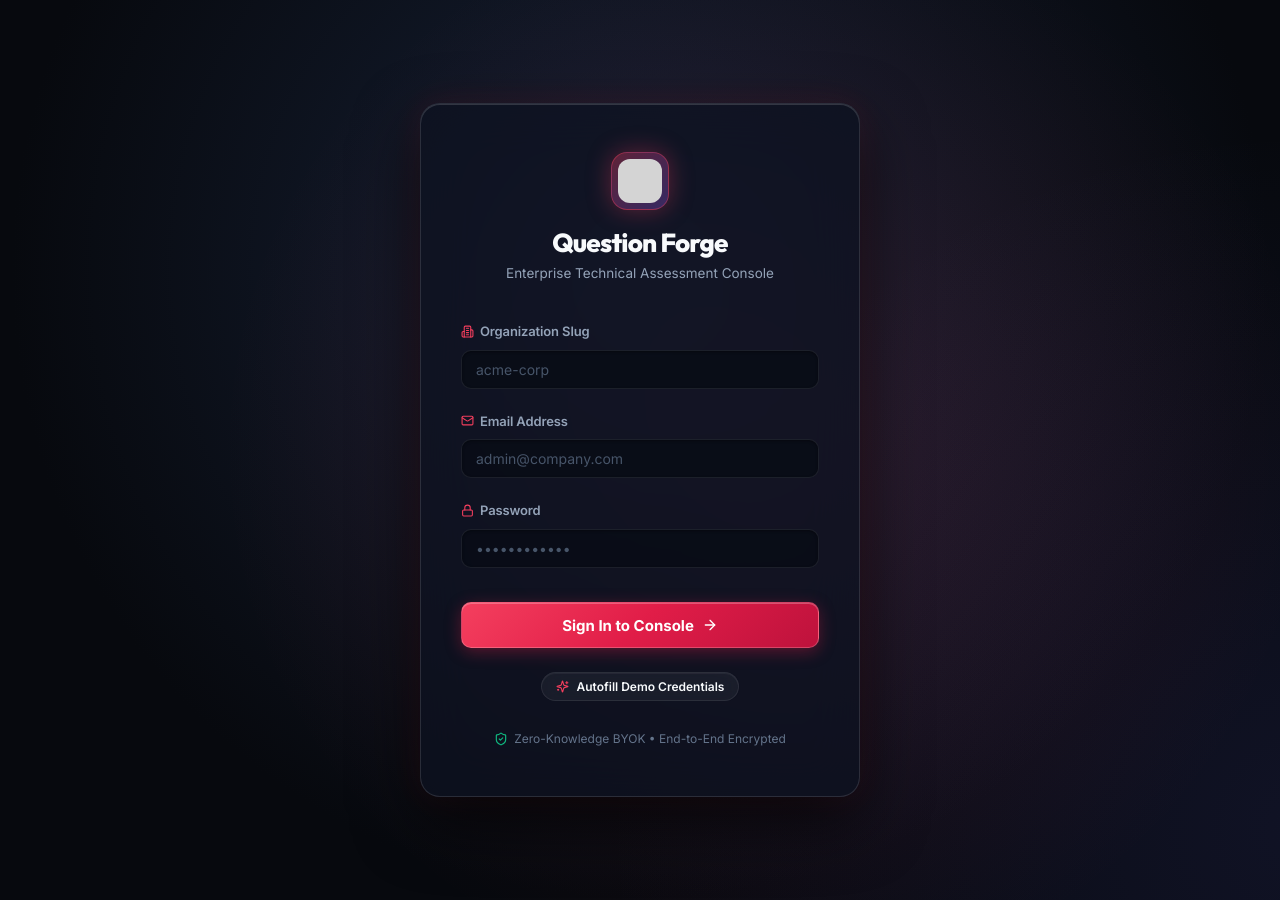
Test: LoginPage › shows an error message when login fails
This screenshot has width=1280, height=900.
Type "my-org" into the field with placeholder "acme-corp".
click(640, 369); type("my-org")  # box [461,350,819,389]
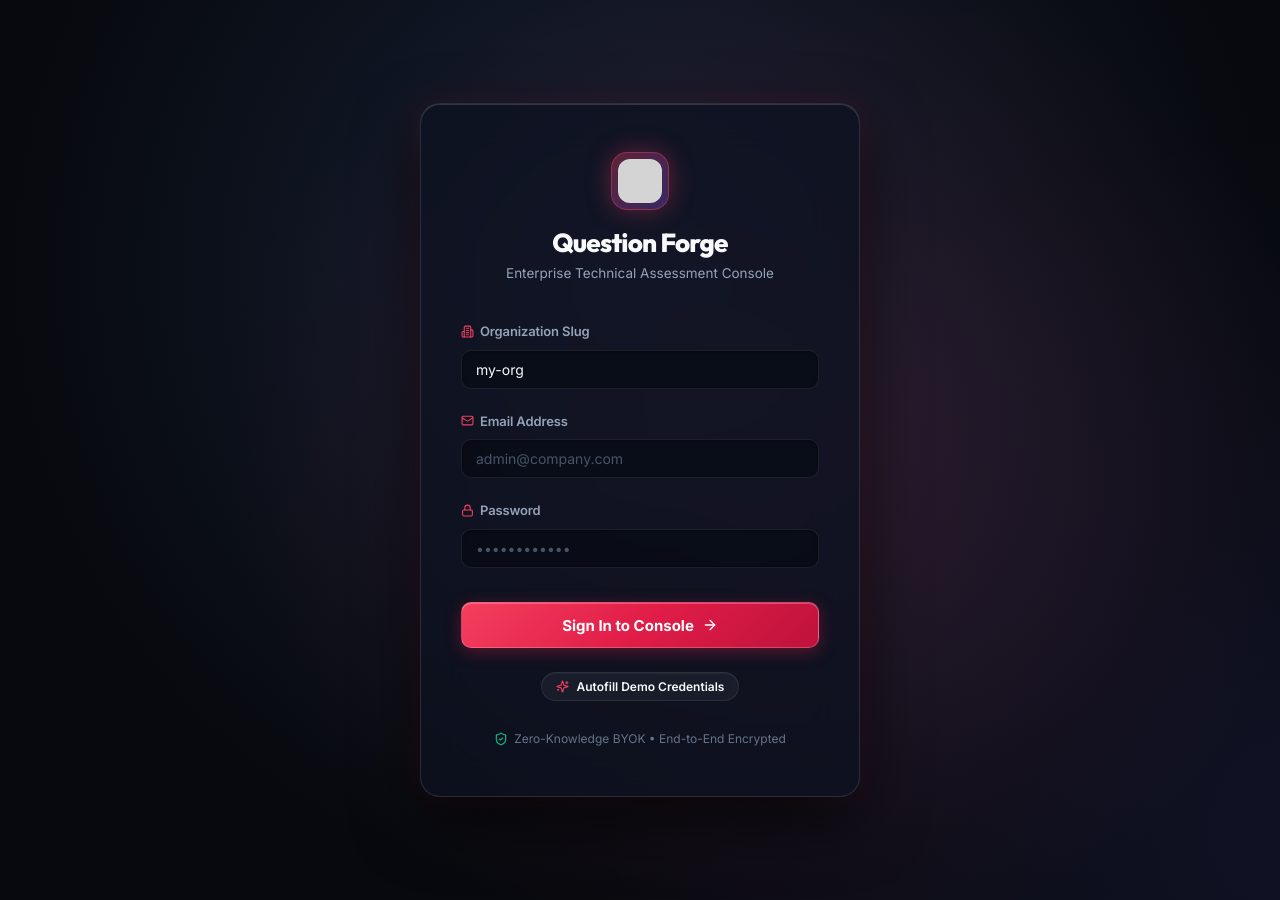
Type "a@b.com" into the field with placeholder "admin@company.com".
click(640, 459); type("a@b.com")  # box [461,439,819,478]
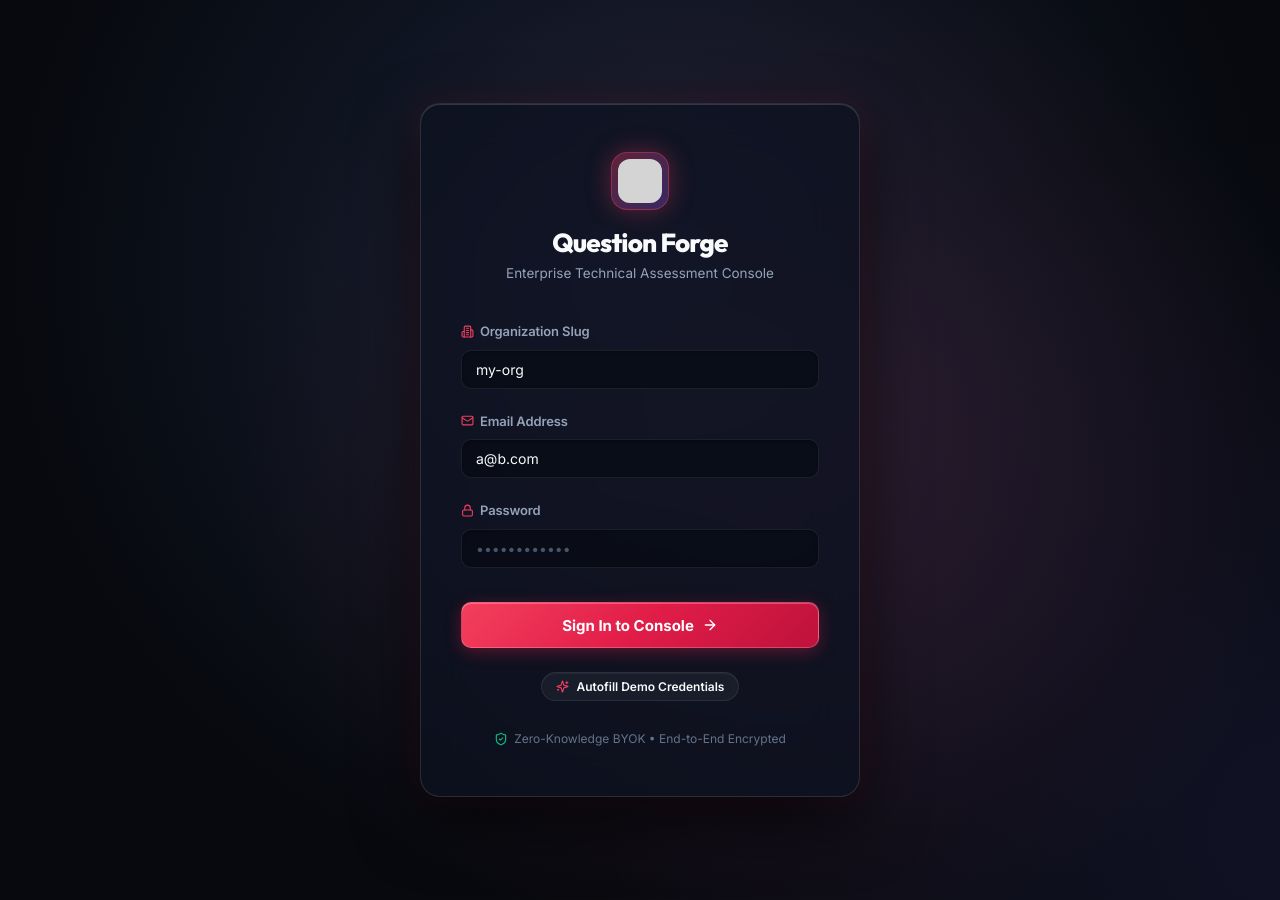
Type "wrong" into the password field with placeholder "••••••••••••".
click(640, 549); type("wrong")  # box [461,529,819,568]
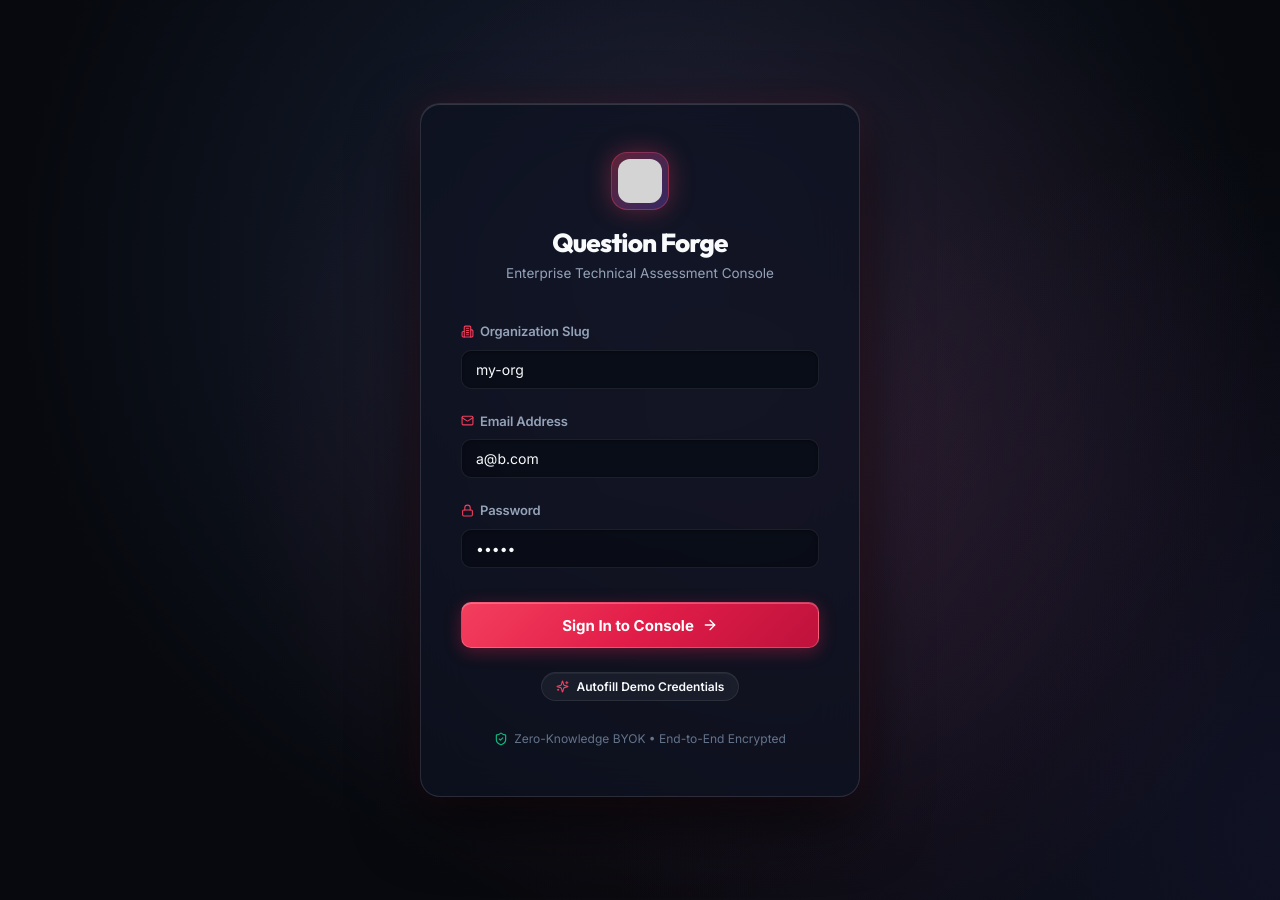
Click the button "Sign In to Console".
click(640, 625)  # box [461,602,819,648]
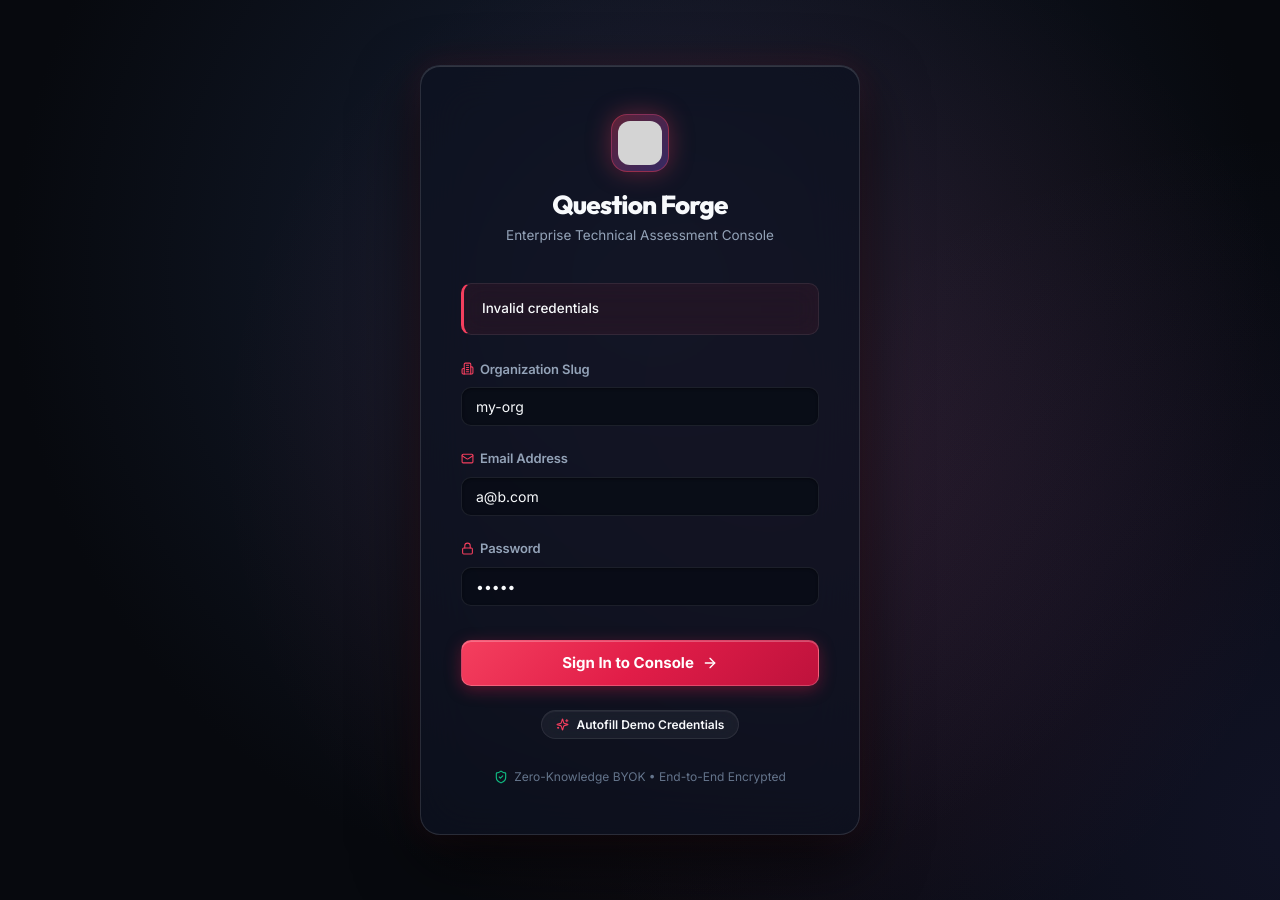
Result: the text "Invalid credentials" is shown at [461,283,819,335]
